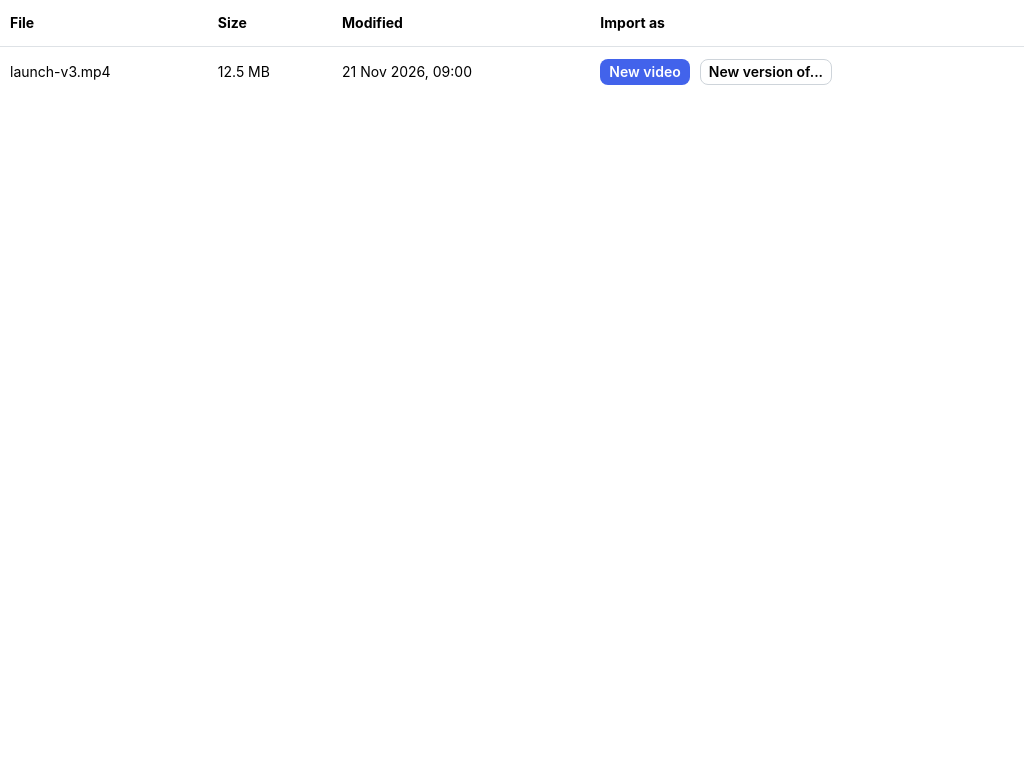
InboxTable › lists inbox files and opens the import modal for a new video
Expected: the row with test id "admin-inbox-row" shows "launch-v3.mp4", x1=10 y1=63 x2=111 y2=80
Expected: the row with test id "admin-inbox-row" shows "12.5 MB", x1=218 y1=63 x2=270 y2=80
Click the button with test id "admin-import-new": (645, 72) x1=600 y1=59 x2=690 y2=85
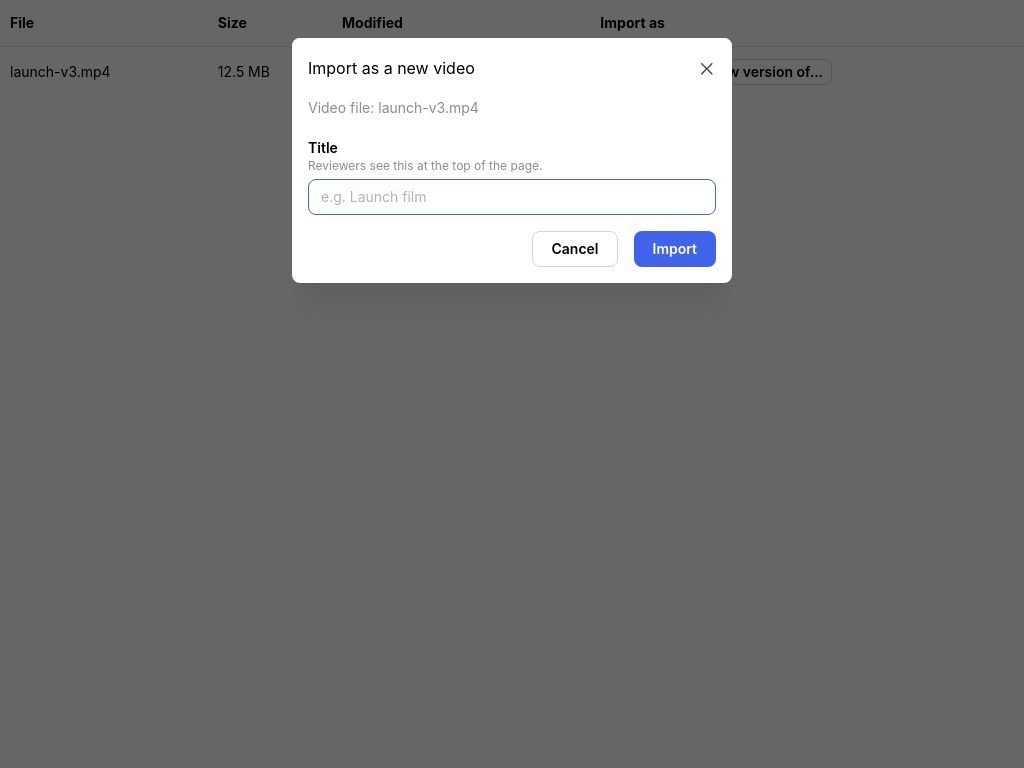
Result: the field with test id "admin-import-title" is shown at x1=308 y1=179 x2=716 y2=215
